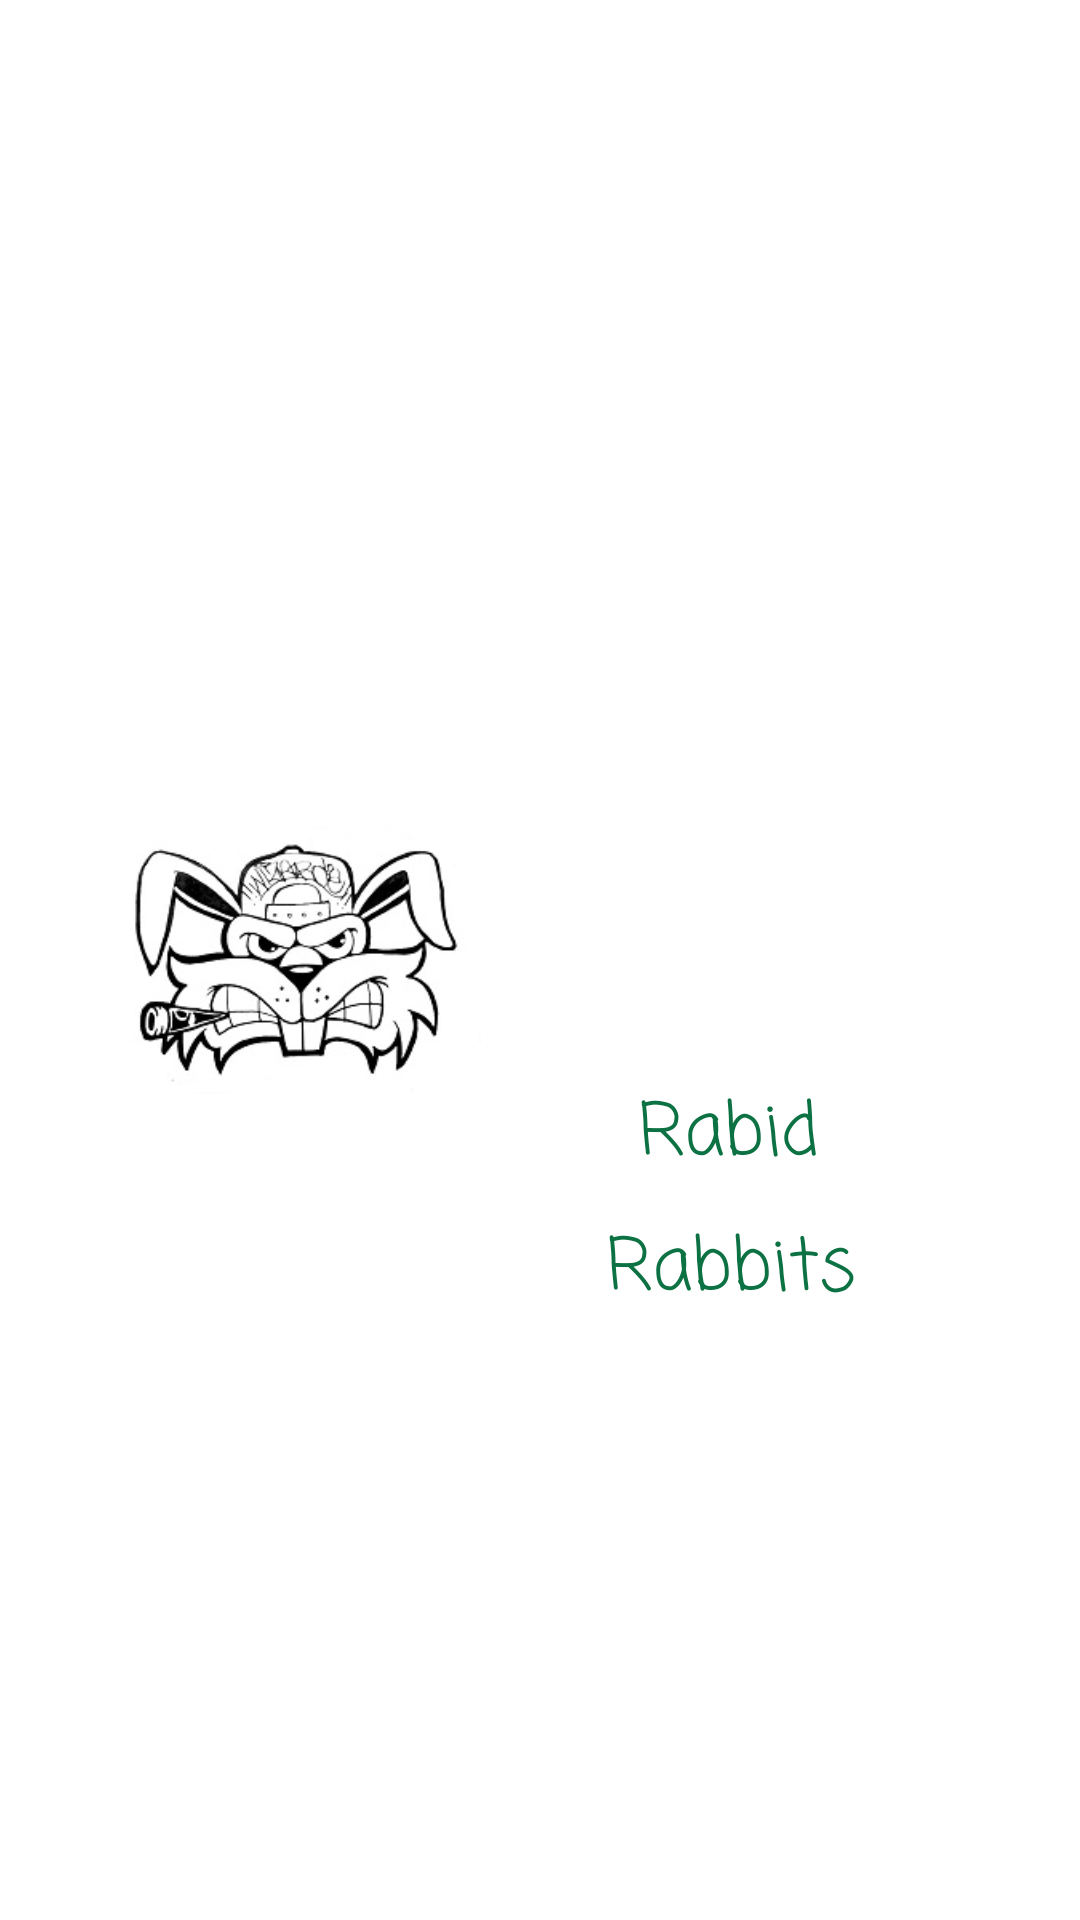

Where to tap for icons on this 1080 x 1920 app screen, as (x,y):
rabbitimg: (296,962)
